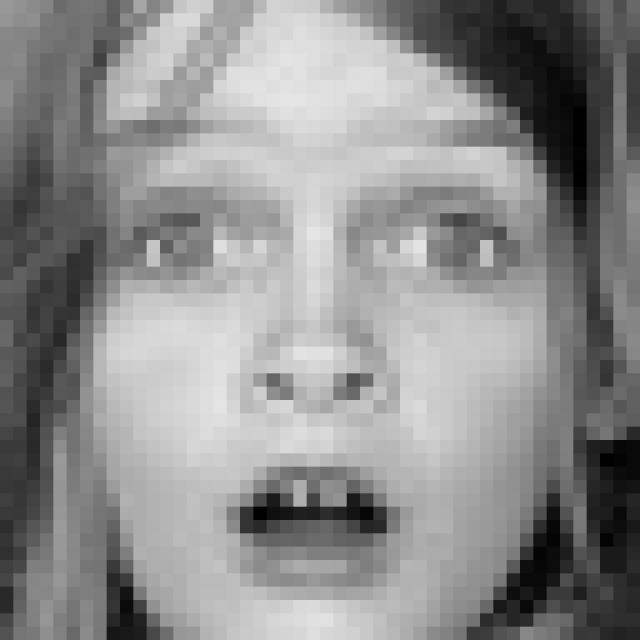surprise: (84, 110, 550, 592)
